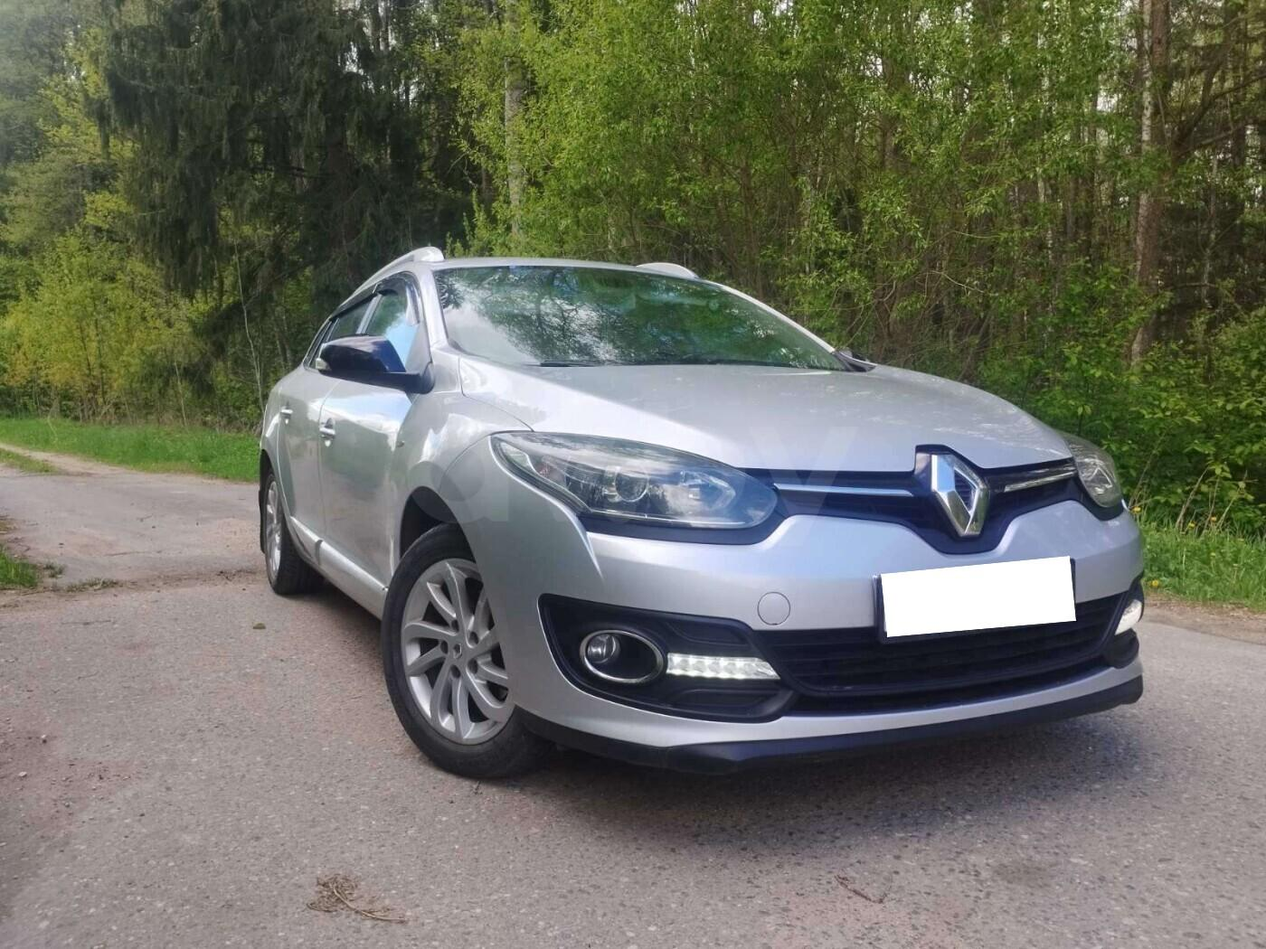Megane_2014-2016: (247, 250, 1165, 810)
